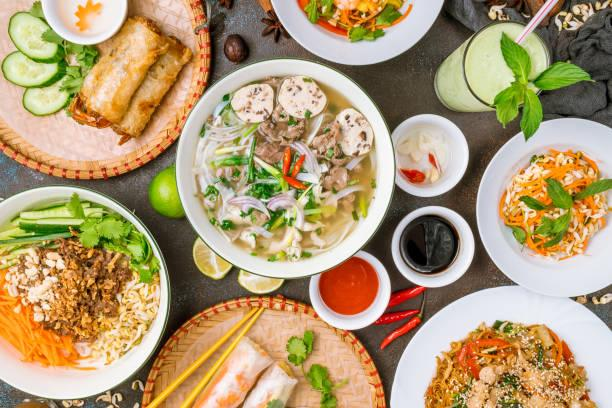Braised Crucian Carp: (176, 55, 389, 277), (0, 0, 210, 179), (2, 183, 169, 401), (394, 286, 612, 408), (474, 118, 609, 296)
